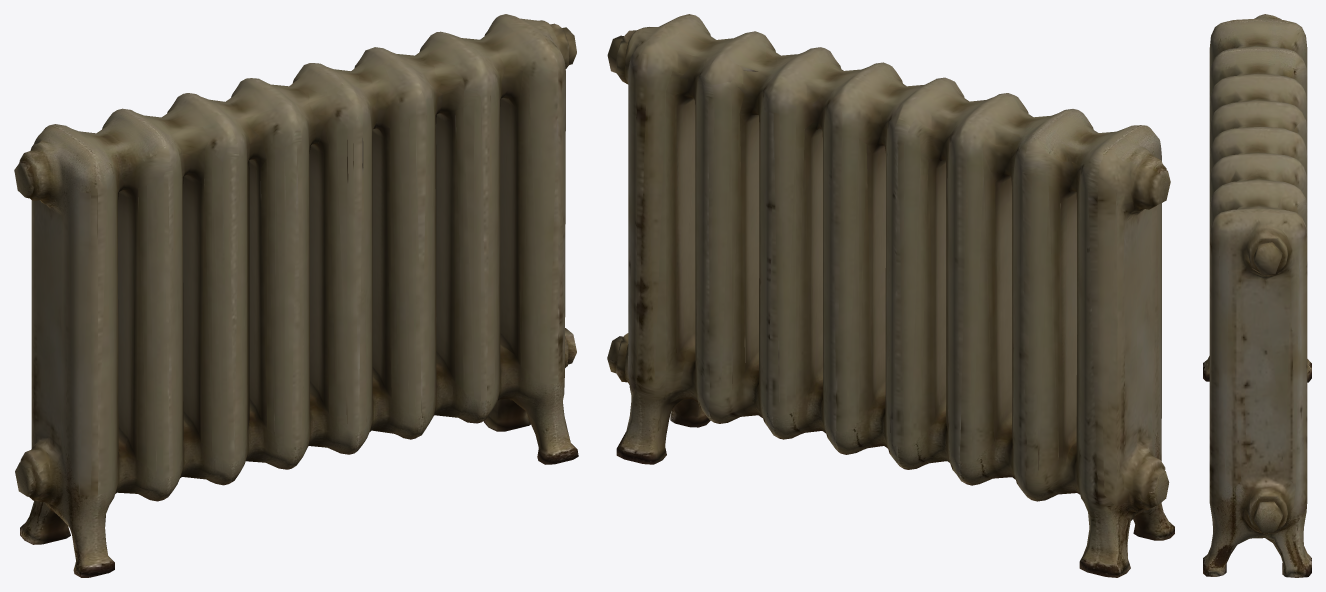
Rendered from fixture-radiator-cast-iron.glb.
The picture shows the model from 3 angles, left to right: view 1: azimuth 30°, elevation 25°; view 2: azimuth 150°, elevation 25°; view 3: azimuth 270°, elevation 25°; orthographic projection. The views are drawn at different scales.
Visible parts, largest first — view 1: tripo_node_8786c3e6-57a0-4d62-b764-f8b92ea855af; view 2: tripo_node_8786c3e6-57a0-4d62-b764-f8b92ea855af; view 3: tripo_node_8786c3e6-57a0-4d62-b764-f8b92ea855af.
Part boxes in pixels (x1=…): tripo_node_8786c3e6-57a0-4d62-b764-f8b92ea855af: x1=14, y1=14, x2=578, y2=577; tripo_node_8786c3e6-57a0-4d62-b764-f8b92ea855af: x1=607, y1=14, x2=1174, y2=577; tripo_node_8786c3e6-57a0-4d62-b764-f8b92ea855af: x1=1203, y1=14, x2=1311, y2=577.
Bounding box in the file's own units: 0.9 × 0.65 × 0.18.
Materials: 1 (1 with a texture image).
